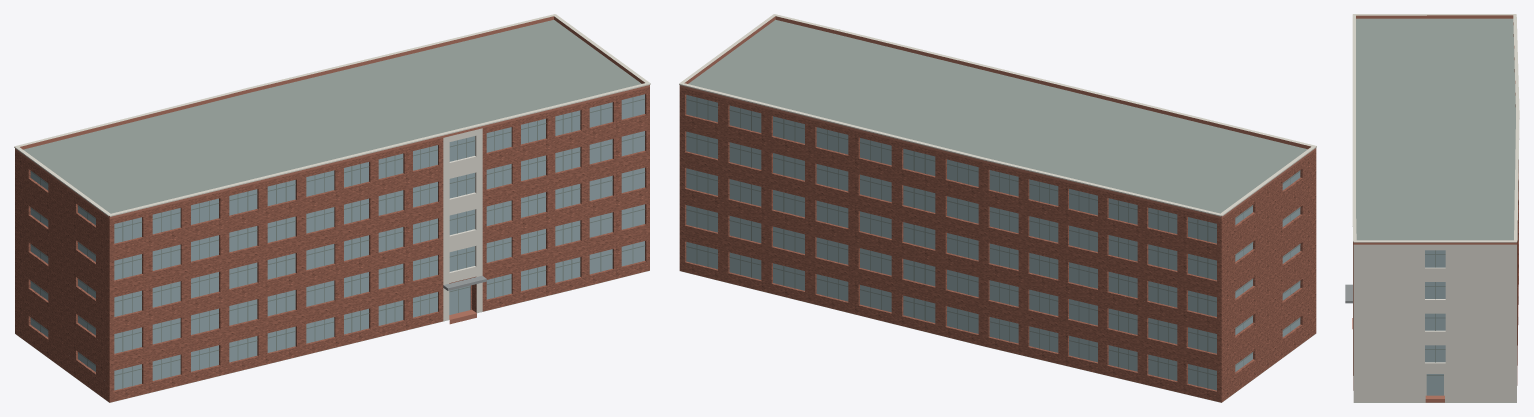
3 views of the same model, side by side, from view 1: azimuth 30°, elevation 25°; view 2: azimuth 150°, elevation 25°; view 3: azimuth 270°, elevation 25° (orthographic). The views are drawn at different scales.
Visible parts, largest first — view 1: b115951800__wall, b115951800__roof, b115951800__glass, b115951800__frame, b115951800__parapet, b115951800__wall2, b115951800__trim; view 2: b115951800__wall, b115951800__roof, b115951800__glass, b115951800__frame, b115951800__parapet, b115951800__trim; view 3: b115951800__roof, b115951800__wall2, b115951800__trim, b115951800__glass, b115951800__parapet, b115951800__wall, b115951800__frame.
Part boxes in pixels (x1,y1,x2,y2): b115951800__wall: (15,87,649,402); b115951800__roof: (18,20,649,402); b115951800__glass: (30,94,644,390); b115951800__frame: (30,97,645,388); b115951800__parapet: (15,16,649,219); b115951800__wall2: (443,128,482,321); b115951800__trim: (14,14,650,216); b115951800__wall: (679,87,1316,402); b115951800__roof: (680,19,1314,402); b115951800__glass: (686,95,1300,390); b115951800__frame: (686,97,1300,388); b115951800__parapet: (679,16,1316,218); b115951800__trim: (679,14,1316,216); b115951800__roof: (1354,18,1516,402); b115951800__wall2: (1353,244,1516,402); b115951800__trim: (1352,14,1519,242); b115951800__glass: (1425,250,1445,395); b115951800__parapet: (1353,15,1516,244); b115951800__wall: (1353,160,1518,390); b115951800__frame: (1425,250,1445,375).
Bounding box in the file's own units: 55.69 × 18.75 × 17.98.
Materials: 11 (1 with a texture image).
